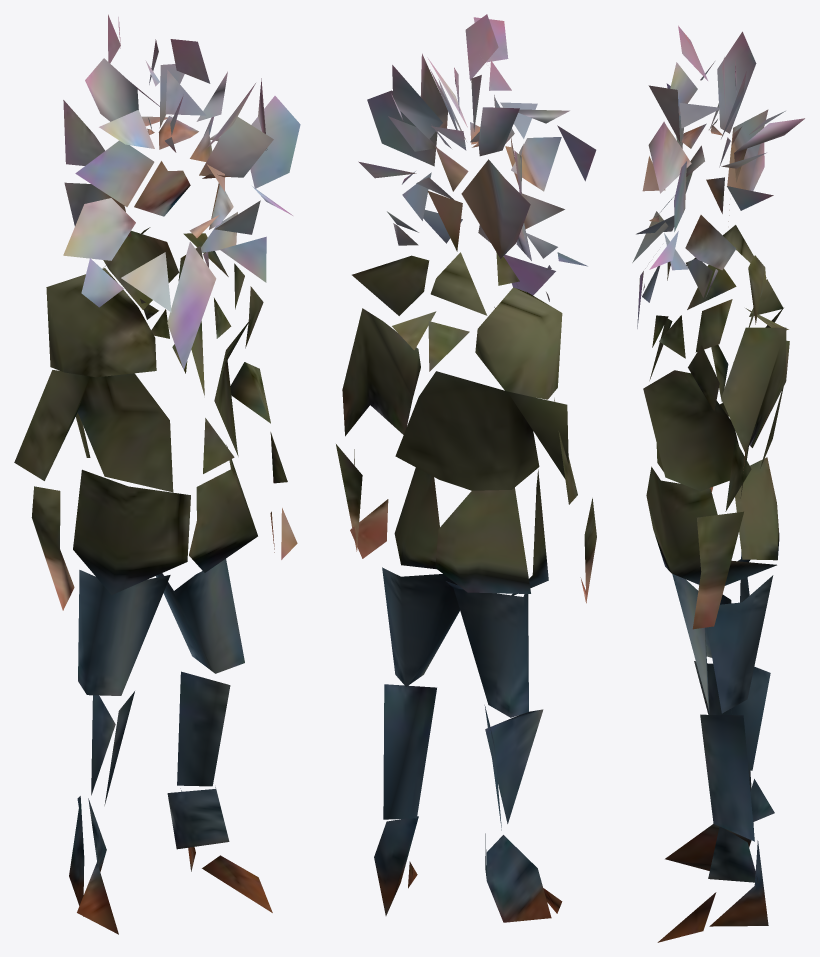
File: crowd_cabbie_lite.glb
3 views of the same model, side by side, from view 1: azimuth 30°, elevation 25°; view 2: azimuth 150°, elevation 25°; view 3: azimuth 270°, elevation 25° (orthographic). The views are drawn at different scales.
Visible parts, largest first — view 1: tripo_node_a42e675f-a73e-45f9-b257-74cbc0c52e2a; view 2: tripo_node_a42e675f-a73e-45f9-b257-74cbc0c52e2a; view 3: tripo_node_a42e675f-a73e-45f9-b257-74cbc0c52e2a.
Part boxes in pixels (x1,y1,x2,y2): tripo_node_a42e675f-a73e-45f9-b257-74cbc0c52e2a: (14, 14, 300, 934); tripo_node_a42e675f-a73e-45f9-b257-74cbc0c52e2a: (336, 14, 596, 922); tripo_node_a42e675f-a73e-45f9-b257-74cbc0c52e2a: (632, 25, 804, 942).
Size of the model in its own units: 0.5443 by 1.85 by 0.3289.
1 material, 1 textured.
